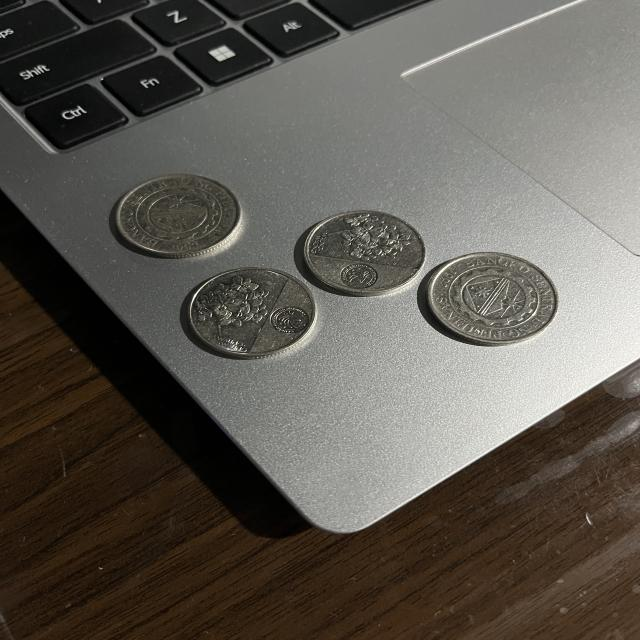1_New_Back: (188, 270, 274, 348), (312, 212, 411, 264)
1_Old_Back: (427, 252, 557, 343), (114, 178, 238, 258)
